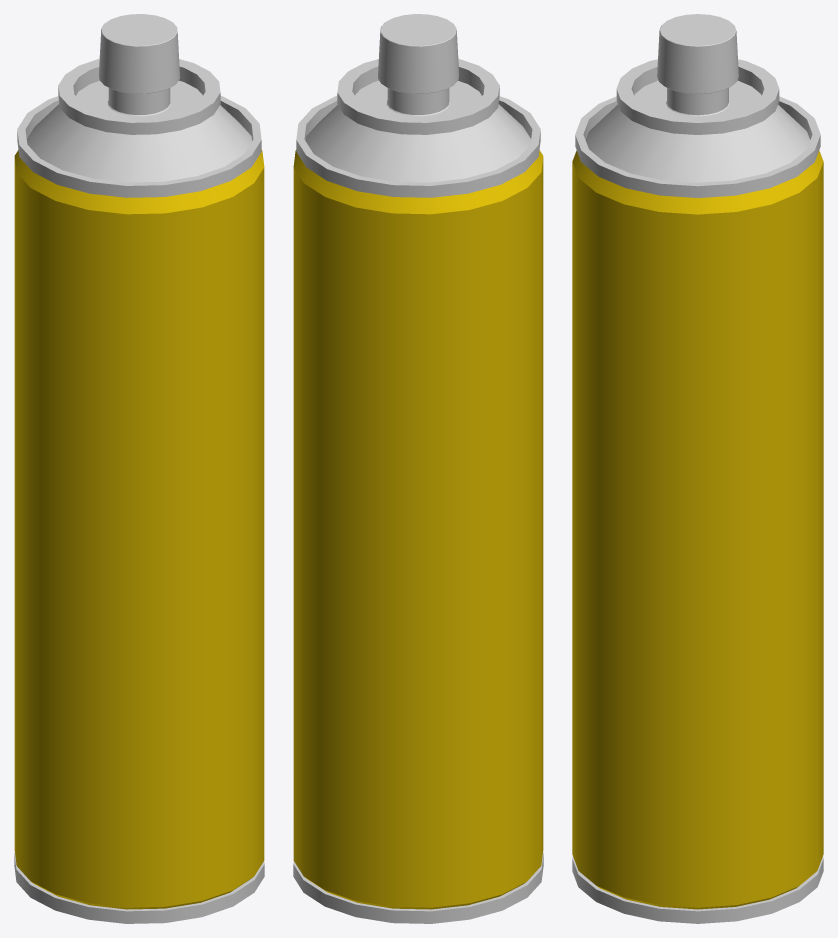
File: Bug Spray.fbx
The picture shows the model from 3 angles, left to right: view 1: azimuth 30°, elevation 25°; view 2: azimuth 150°, elevation 25°; view 3: azimuth 270°, elevation 25°; orthographic projection.
Parts seen in each view (by area): view 1: Bug_Spray; view 2: Bug_Spray; view 3: Bug_Spray.
Boxes of the visible parts, left/top/right/bottom form: Bug_Spray: left=14, top=14, right=264, bottom=923; Bug_Spray: left=293, top=14, right=543, bottom=923; Bug_Spray: left=572, top=14, right=823, bottom=923.
Bounding box in the file's own units: 2.95 × 10.87 × 2.95.
